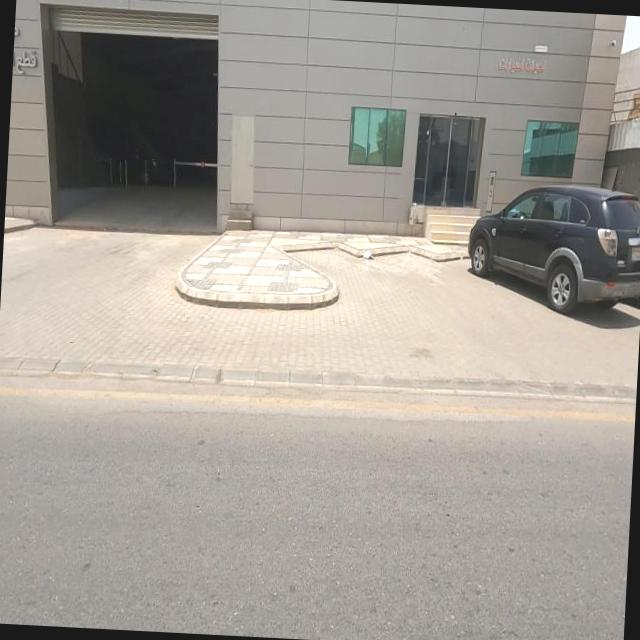debris: (351, 230, 382, 282)
